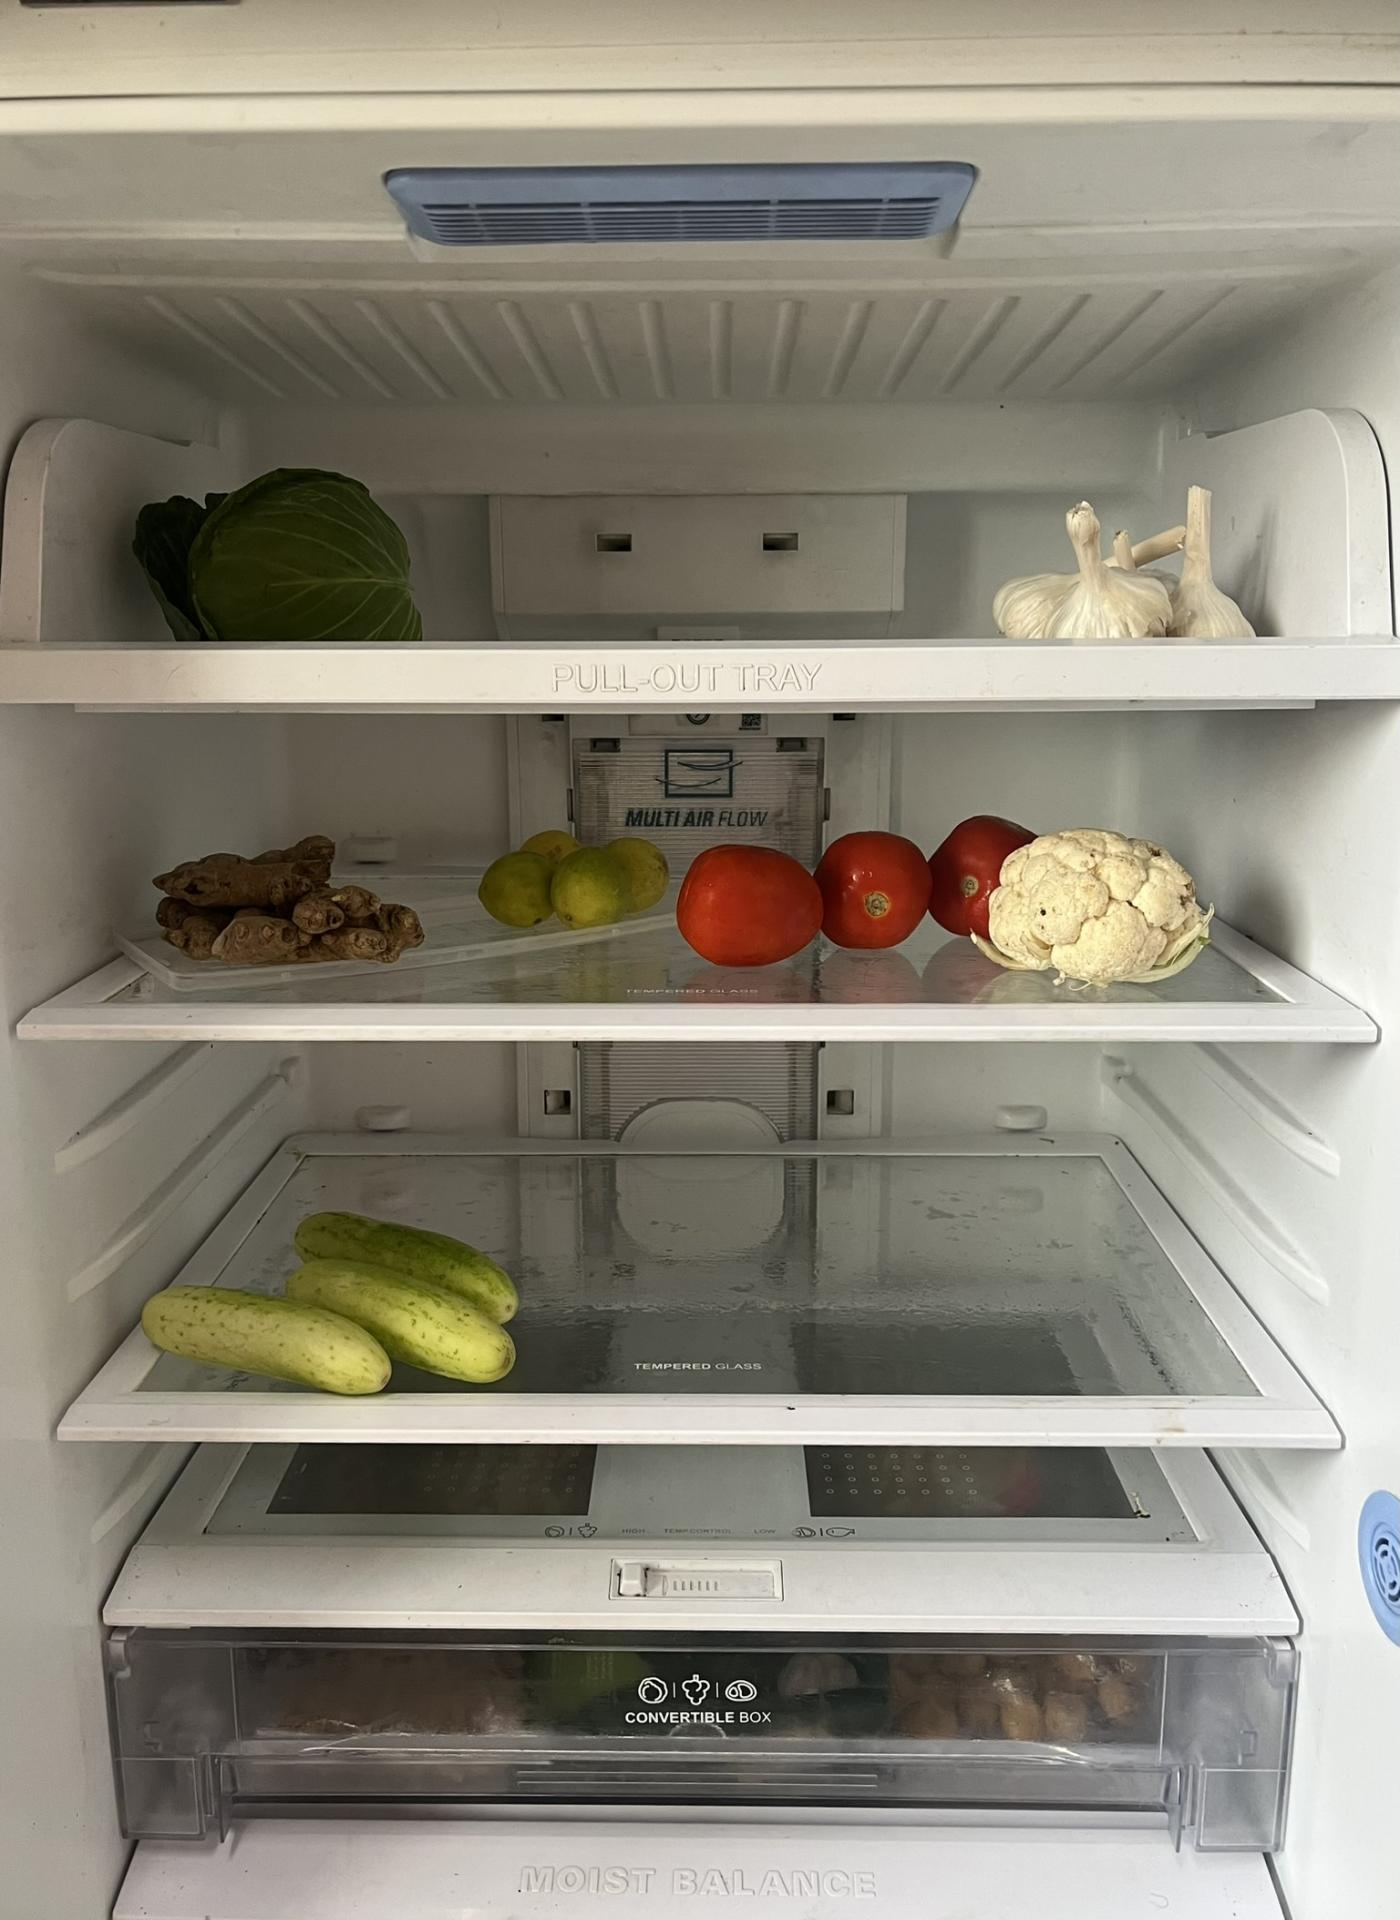cabbage: (139, 452, 420, 640)
cauliflower: (988, 823, 1205, 972)
cucumber: (137, 1210, 519, 1389)
garlic: (1003, 483, 1260, 642)
ginger: (151, 845, 417, 964)
lemon: (485, 823, 669, 923)
tomato: (683, 826, 1026, 956)
